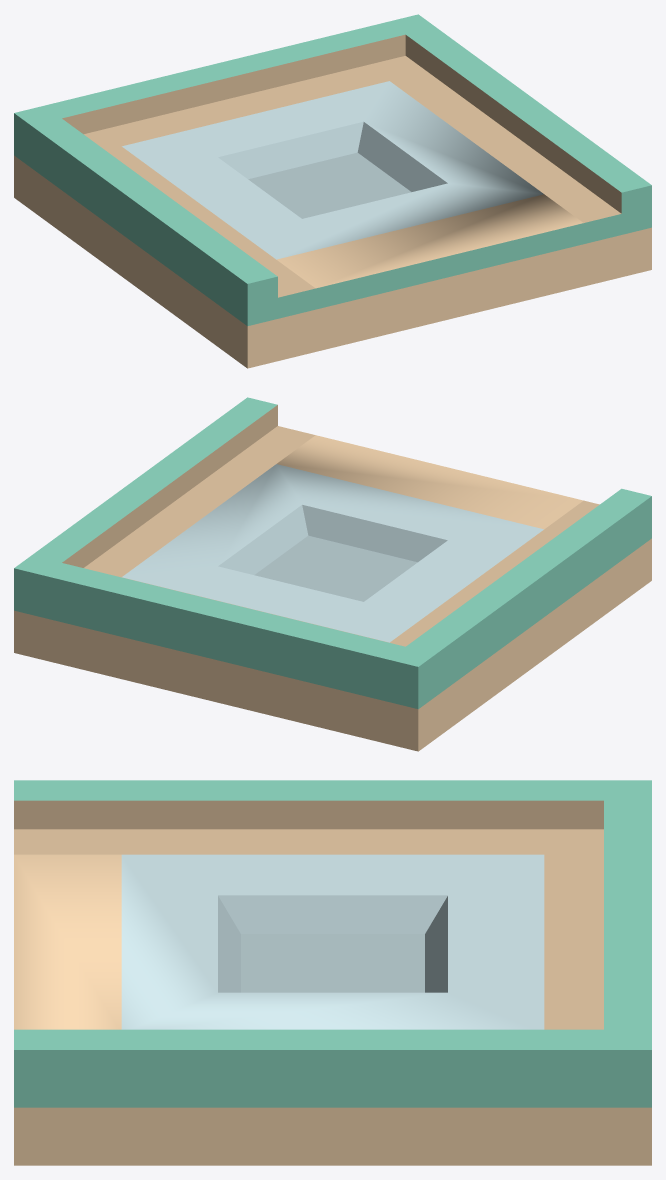
The model's file is tile_endSpawn.fbx.
3 views of the same model, one above another, from view 1: azimuth 30°, elevation 25°; view 2: azimuth 150°, elevation 25°; view 3: azimuth 270°, elevation 25° (orthographic). The views are drawn at different scales.
Parts seen in each view (by area): view 1: tile_endSpawn; view 2: tile_endSpawn; view 3: tile_endSpawn.
Part boxes in pixels (bbox=[...]): tile_endSpawn: bbox=[14, 14, 651, 368]; tile_endSpawn: bbox=[14, 397, 651, 751]; tile_endSpawn: bbox=[14, 780, 651, 1165].
Size of the model in its own units: 100 by 20 by 100.
